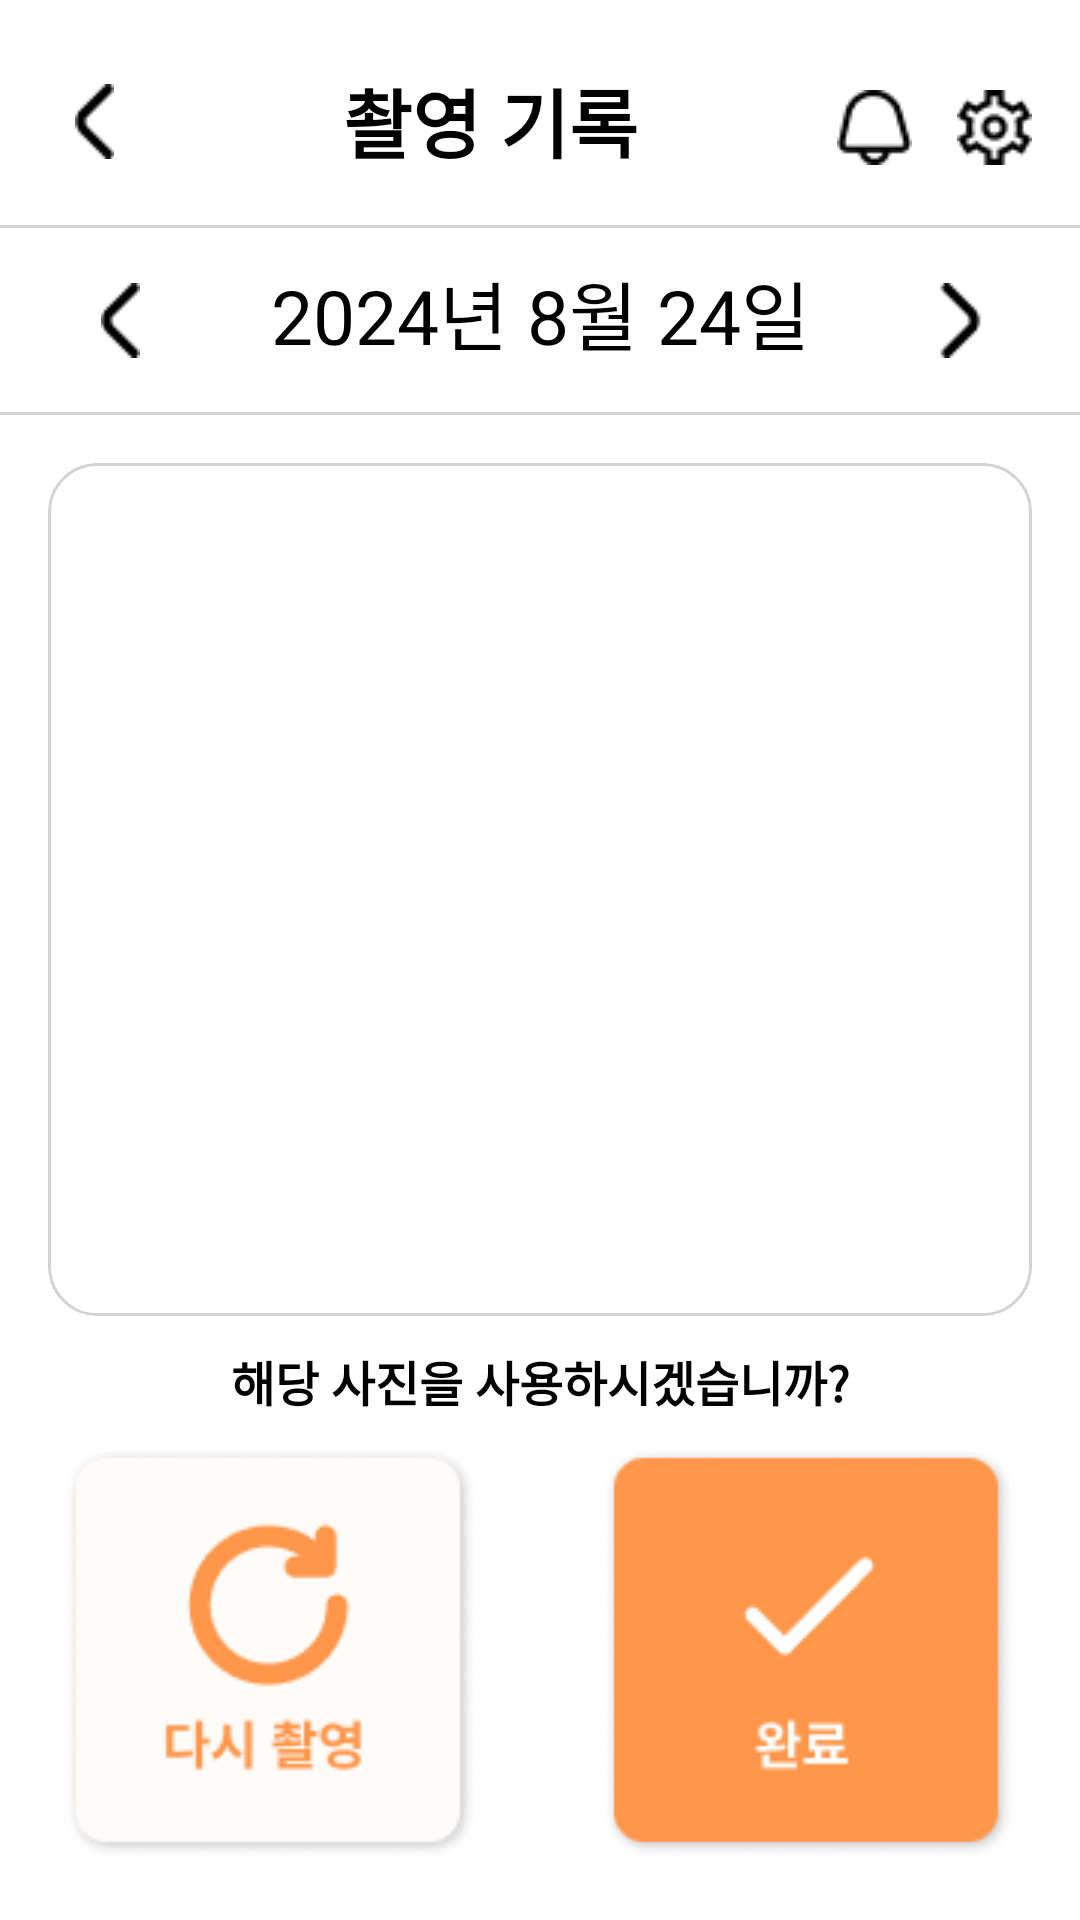

Screen size 1080x1920. Icon name, then its center in pixels as [x,y]:
bell: [874,127]
left arrow: [94,121], [120,320]
right arrow: [960,320]
setting: [994,127]
